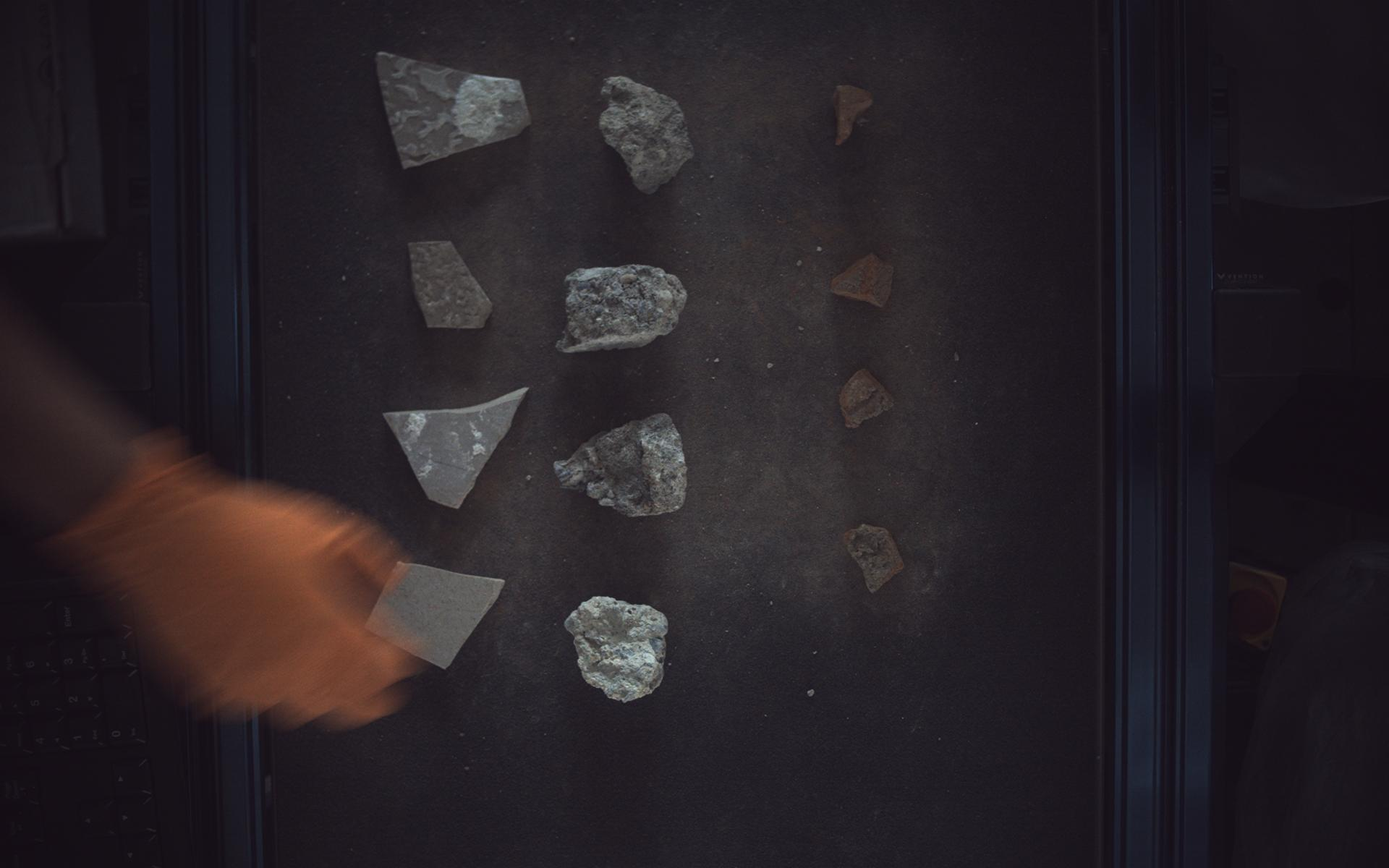brick: (846, 524, 906, 593), (832, 252, 895, 307), (841, 369, 896, 428), (836, 84, 875, 145)
concrete: (554, 414, 688, 517), (557, 264, 688, 353), (600, 76, 694, 193), (566, 597, 668, 703)
tile: (377, 52, 531, 168), (383, 388, 528, 509), (365, 562, 504, 670), (409, 240, 493, 328)
